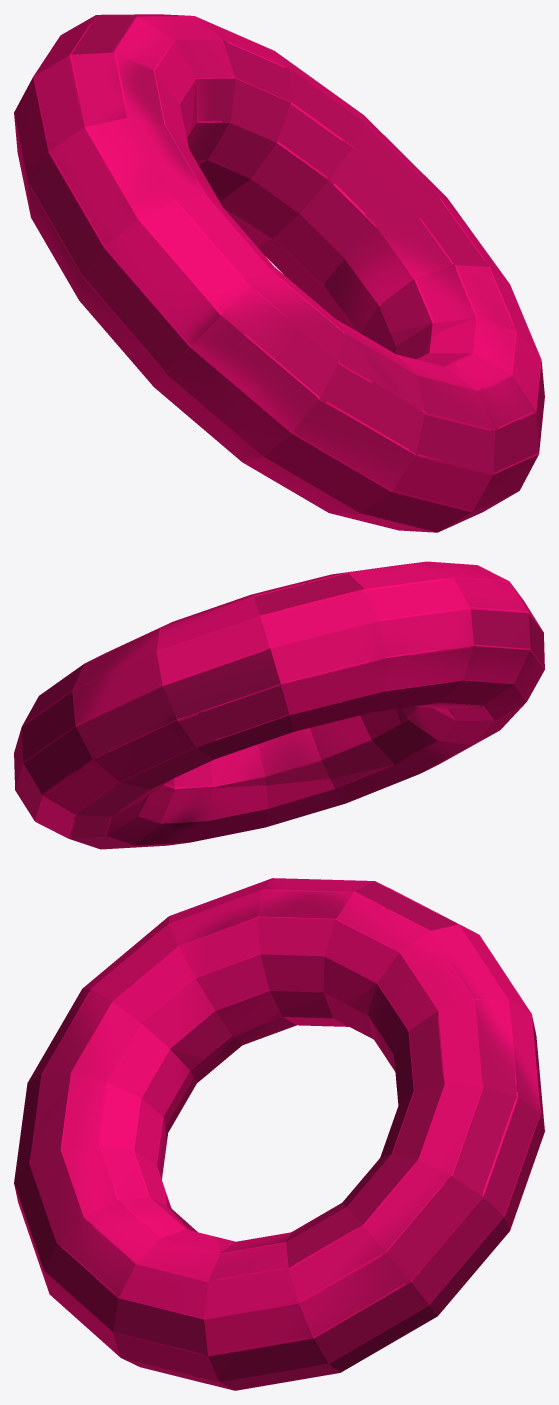
The model's file is flot3.obj.
3 views of the same model, one above another, from view 1: azimuth 30°, elevation 25°; view 2: azimuth 150°, elevation 25°; view 3: azimuth 270°, elevation 25° (orthographic). The views are drawn at different scales.
Visible parts, largest first — view 1: Torus.001_Torus.006; view 2: Torus.001_Torus.006; view 3: Torus.001_Torus.006.
Boxes of the visible parts, left/top/right/bottom form: Torus.001_Torus.006: left=14, top=14, right=544, bottom=532; Torus.001_Torus.006: left=14, top=561, right=544, bottom=849; Torus.001_Torus.006: left=14, top=878, right=544, bottom=1390.
Bounding box in the file's own units: 3.25 × 2.71 × 3.49.
1 material, 1 textured.
